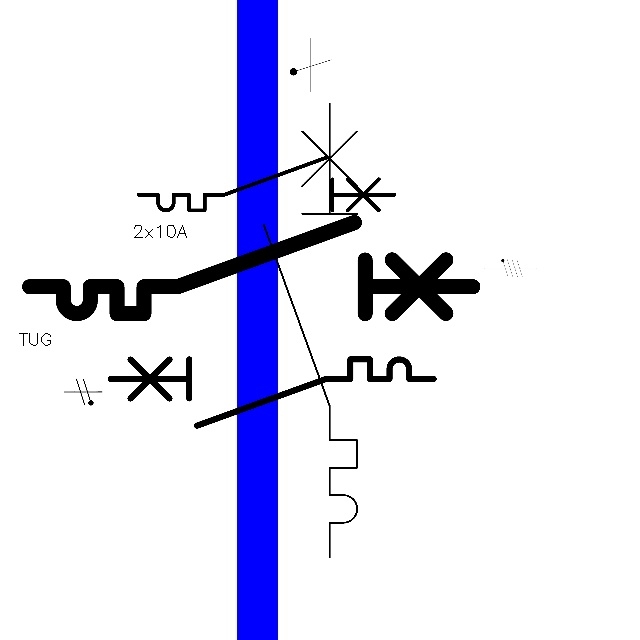interruptor_termomagnetico: (252, 91, 369, 568), (18, 211, 484, 325), (102, 351, 441, 434), (132, 151, 400, 217)
